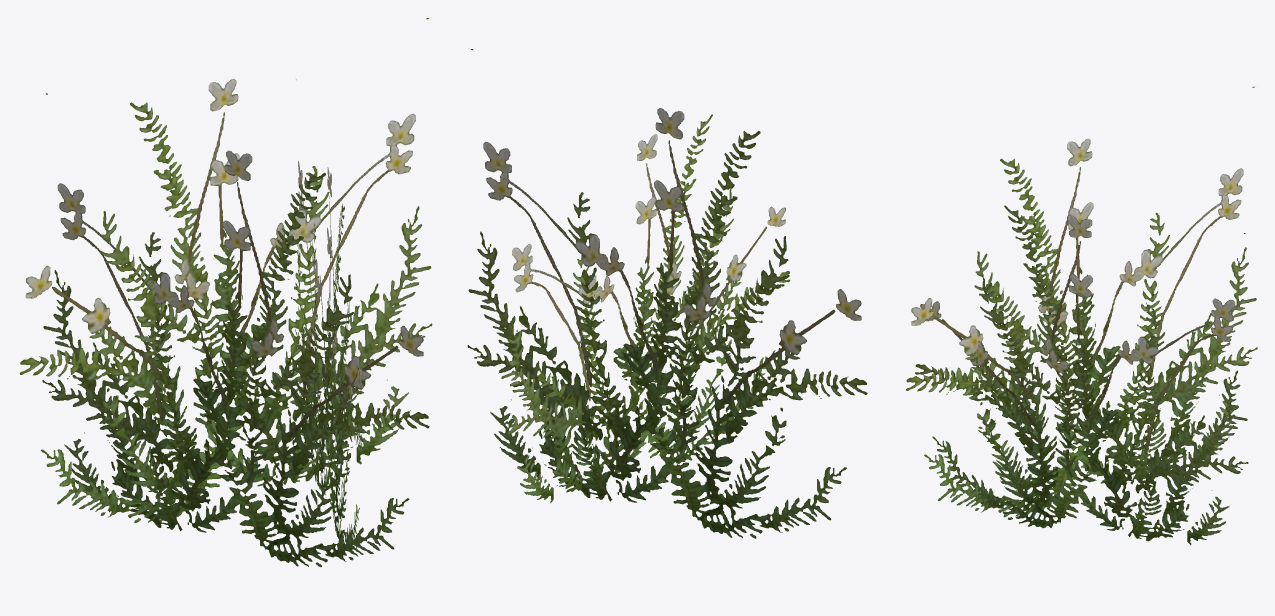
File: Scene_TerrainGrass_5.FBX
3 renders of one model, left to right at view 1: azimuth 30°, elevation 25°; view 2: azimuth 150°, elevation 25°; view 3: azimuth 270°, elevation 25°, orthographic. The views are drawn at different scales.
Parts seen in each view (by area): view 1: Scene_TerrainGrass_5; view 2: Scene_TerrainGrass_5; view 3: Scene_TerrainGrass_5.
Part boxes in pixels (left/top/right/bottom): Scene_TerrainGrass_5: left=19, top=18, right=432, bottom=566; Scene_TerrainGrass_5: left=467, top=49, right=867, bottom=538; Scene_TerrainGrass_5: left=906, top=86, right=1257, bottom=544.
Size of the model in its own units: 50 by 50.93 by 40.6.
